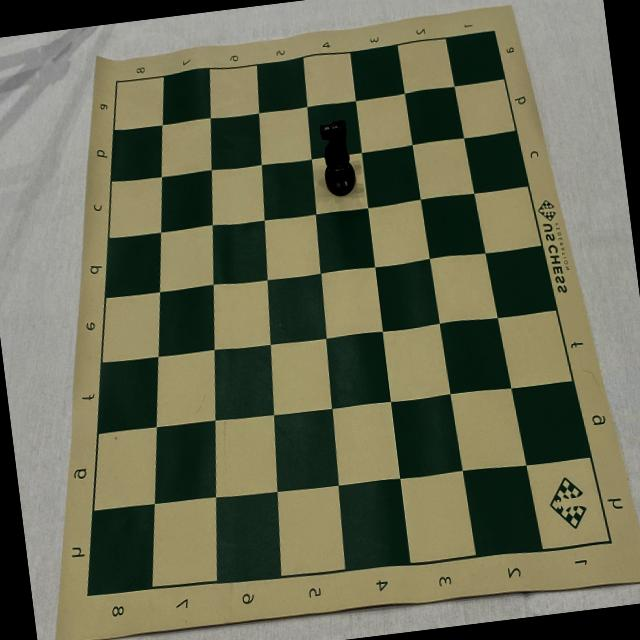black-knight: (316, 116, 360, 200)
